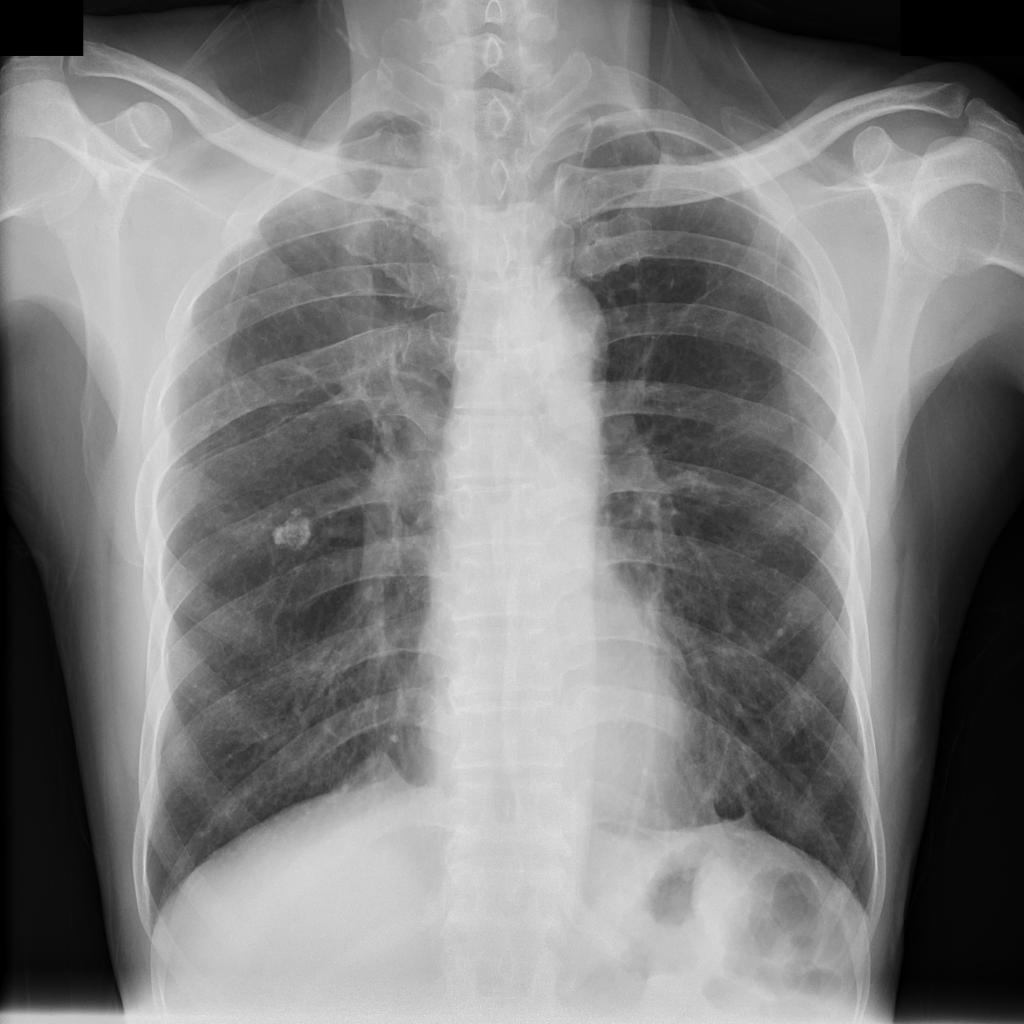Nodule: (273, 510, 317, 554)
